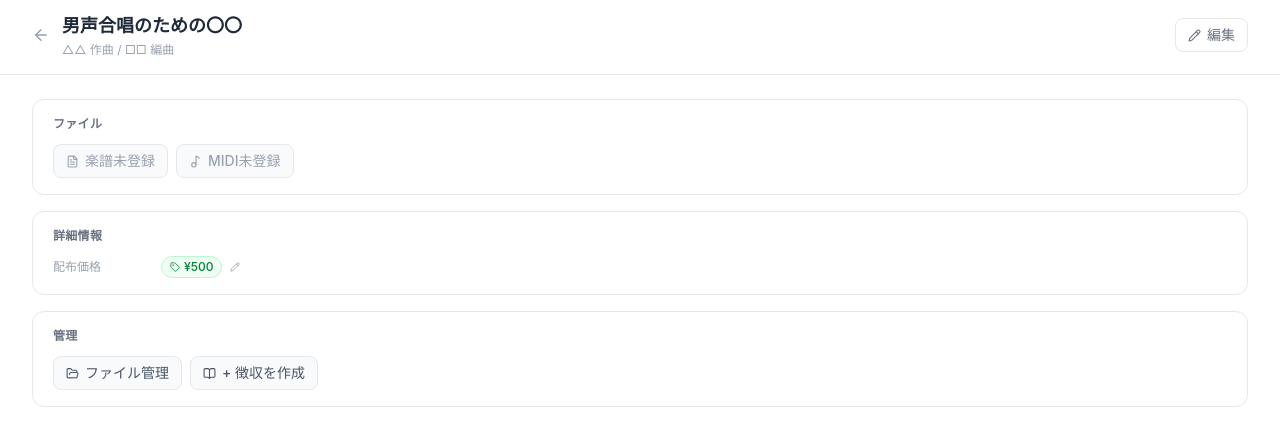
it: ScoreDetailPage（配布価格インライン編集） › 空にして保存すると未設定に戻す
Click the button named "配布価格を編集" at (235, 267), box [228, 260, 242, 274]
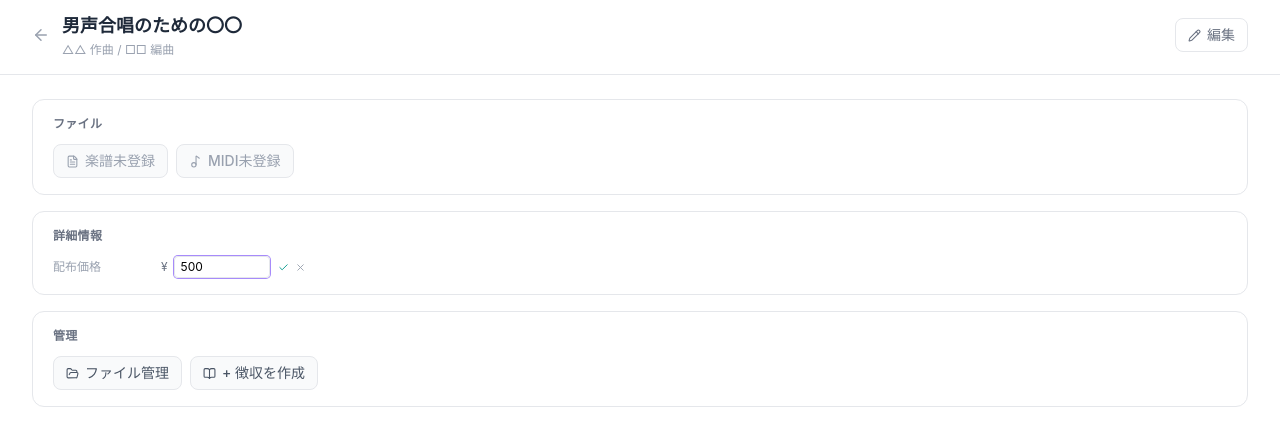
Clear the field named "配布価格" at (222, 267), box [174, 256, 270, 278]
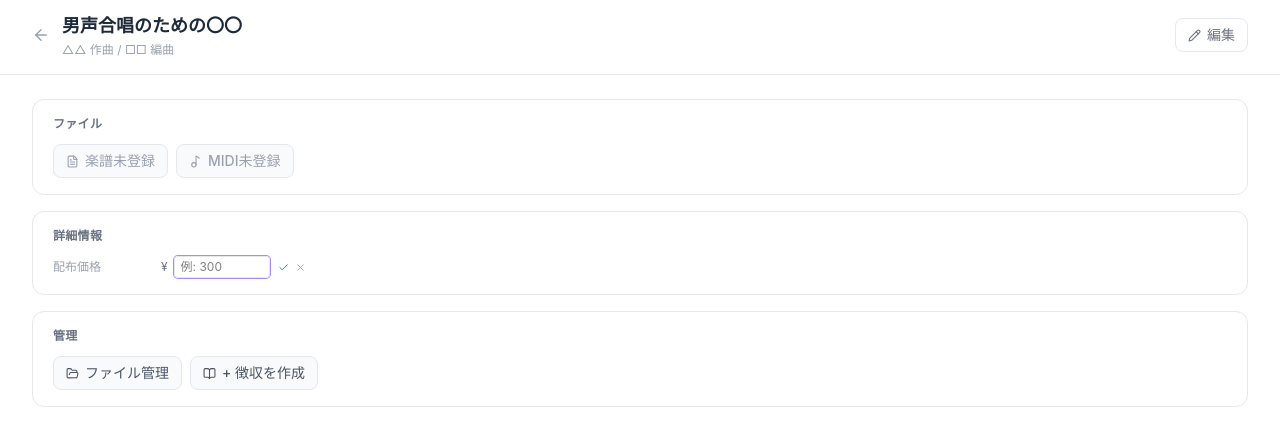
Click the button named "配布価格を保存" at (283, 267), box [276, 260, 291, 274]
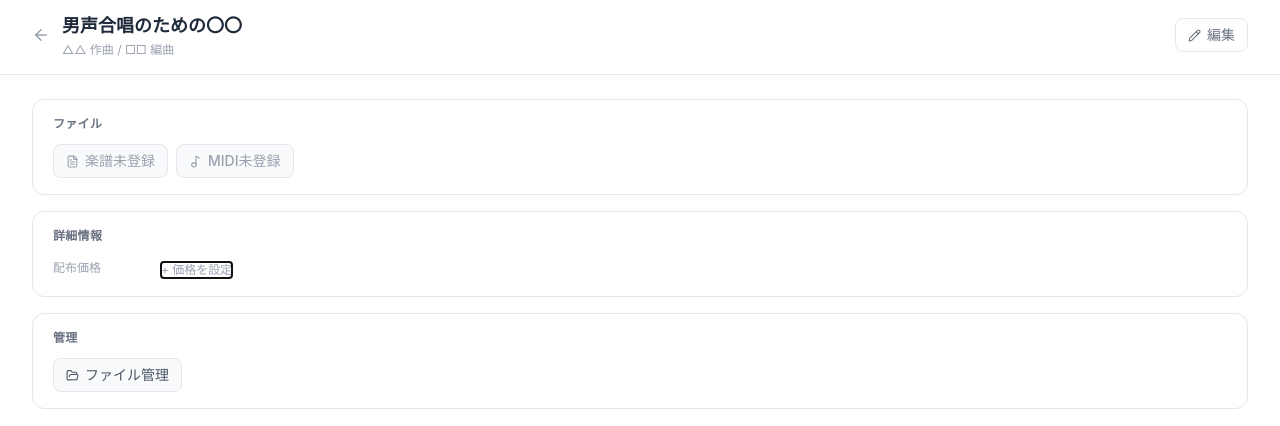
Now the button "+ 価格を設定" is shown, box [161, 262, 232, 278]
